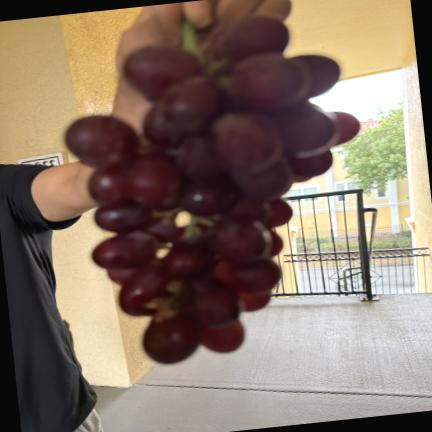grape_cluster: (66, 17, 360, 364)
